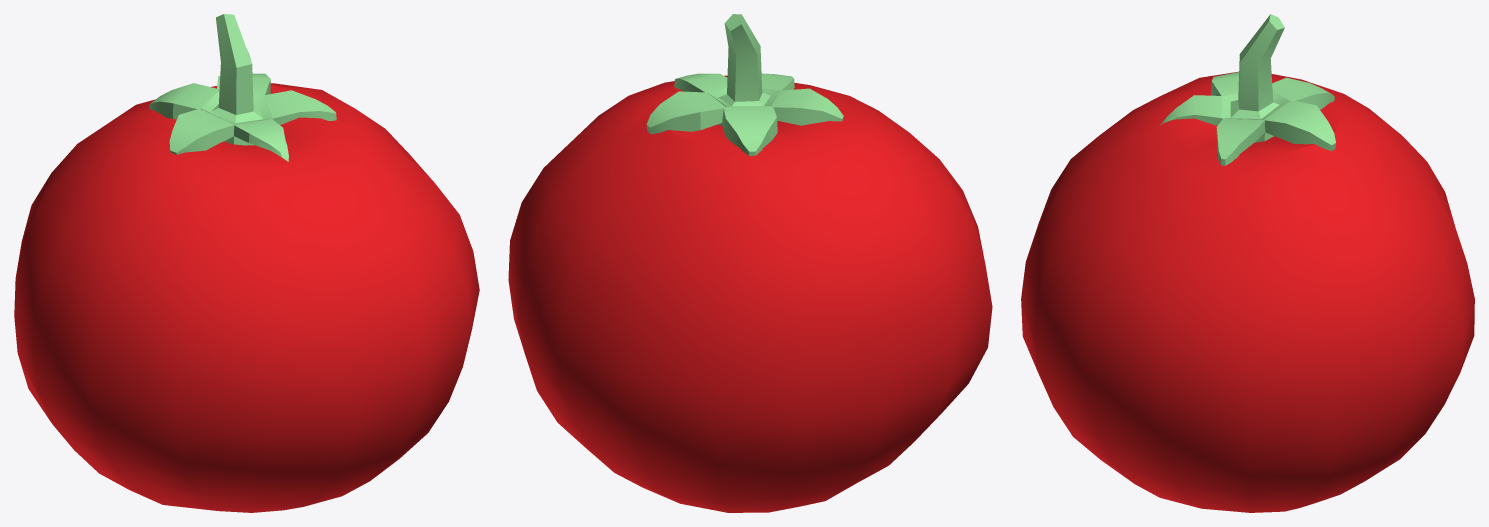
File: tomat.fbx
The picture shows the model from 3 angles, left to right: view 1: azimuth 30°, elevation 25°; view 2: azimuth 150°, elevation 25°; view 3: azimuth 270°, elevation 25°; orthographic projection. The views are drawn at different scales.
Visible parts, largest first — view 1: tOMAT; view 2: tOMAT; view 3: tOMAT.
Part boxes in pixels (x1,y1,x2,y2): tOMAT: (14,14,479,512); tOMAT: (508,14,992,512); tOMAT: (1021,14,1474,512).
Bounding box in the file's own units: 203 × 222 × 193.
